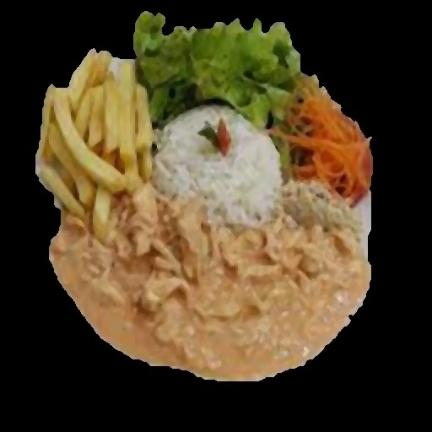carrot: (271, 75, 371, 203)
chicken: (50, 186, 369, 378)
potato: (38, 52, 153, 218)
rice: (153, 105, 282, 226)
salad: (133, 11, 300, 127)
